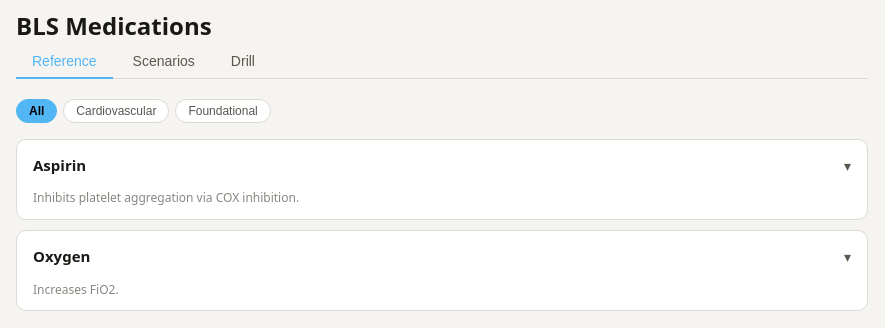
Scenario: BlsMedsView — Reference tab › filter chip hides non-matching medications
Click the button "Cardiovascular": (116, 111) [63,99,169,123]
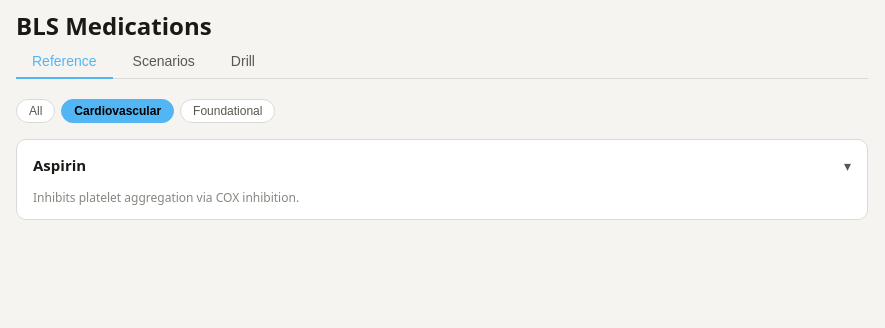
Check: the text "Aspirin" is shown, box [33,155,86,175]
Check: the text "Oxygen" is gone
